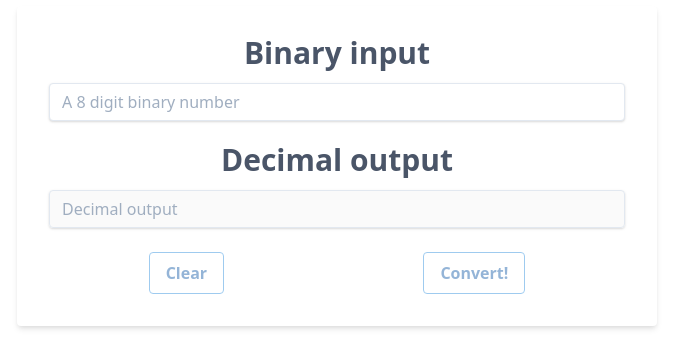
Test: Decimal input behavior › renders a result of a conversion of binary number to decimal number
In the field labelled "Binary input": point(337, 102) [49,83,625,121], type "101010"
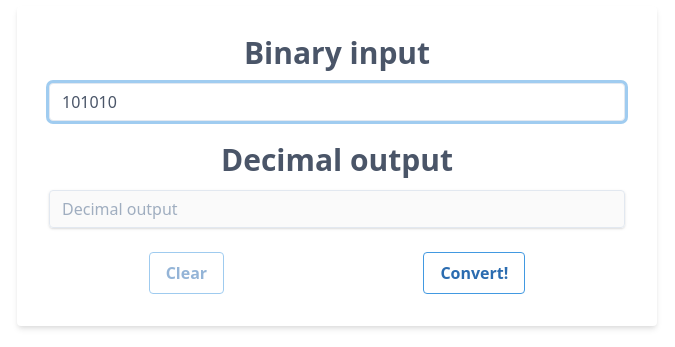
Click the button "Convert!": point(474, 273) [423,252,525,294]
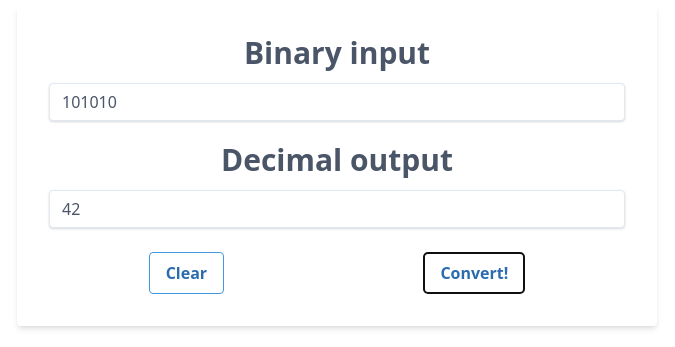
Expected: the field labelled "Decimal output" is enabled, [49,190,625,228]
Expected: the field labelled "Decimal output" holds "42", [49,190,625,228]
